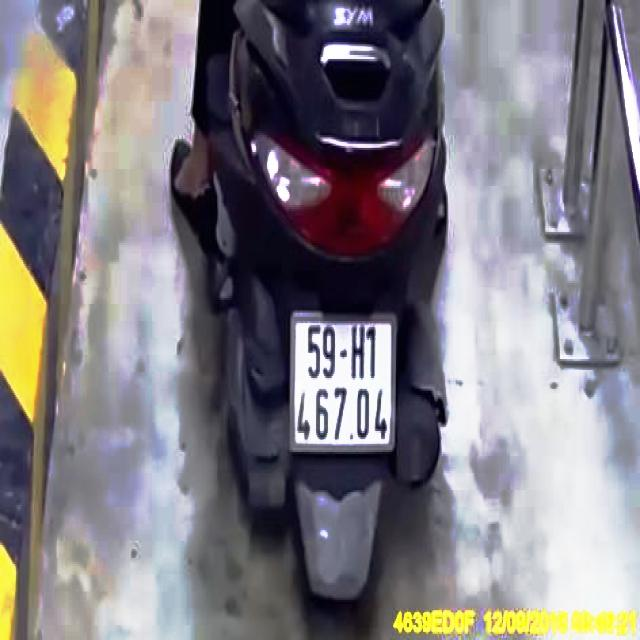license_plate: (290, 315, 398, 453)
